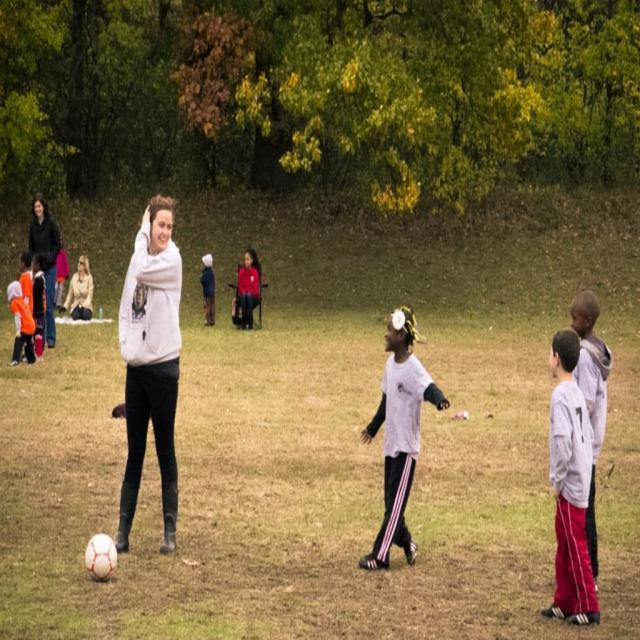football: (75, 530, 128, 576)
